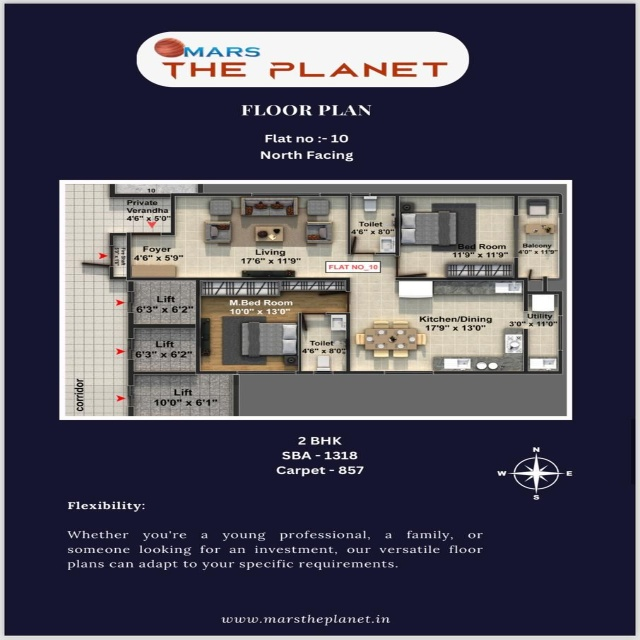door: (318, 290, 350, 313), (81, 246, 114, 267), (396, 257, 429, 278), (301, 313, 326, 331), (350, 236, 374, 254), (131, 232, 161, 246), (526, 267, 546, 279)
